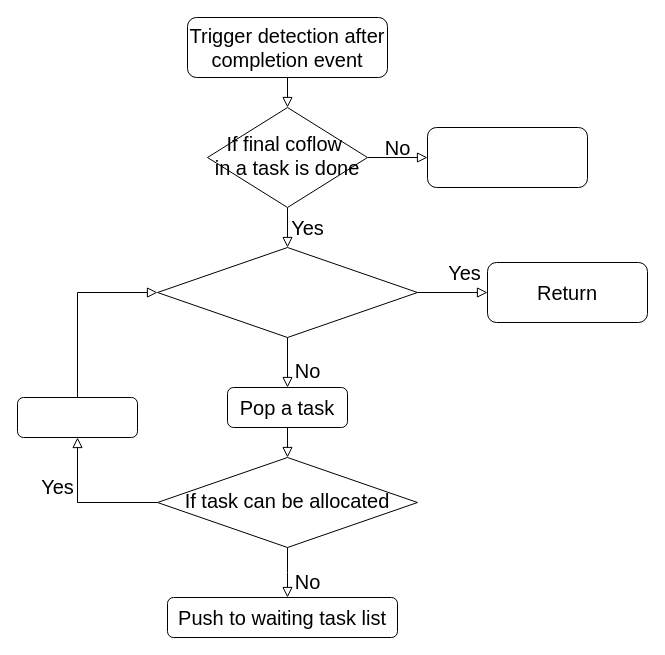
The diagram is 665 pixels wide and 655 high, and some of its shapes have lost their labels. Here are the shapes that lost their labels. From the top down, the box of each, then its label:
(426, 126, 588, 188): Register next coflow events
(156, 246, 418, 338): If waiting task list is empty
(16, 396, 138, 438): Execute task
